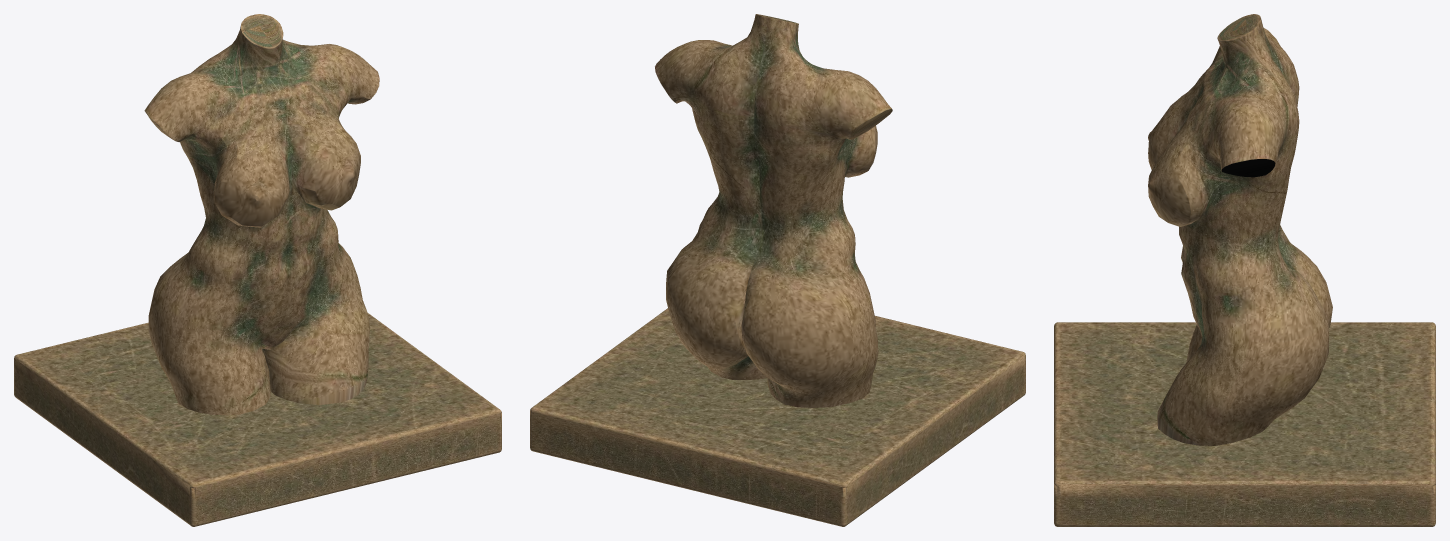
The model's file is woman_sculptire_ecc8b968.glb.
The picture shows the model from 3 angles, left to right: view 1: azimuth 30°, elevation 25°; view 2: azimuth 150°, elevation 25°; view 3: azimuth 270°, elevation 25°; orthographic projection. The views are drawn at different scales.
Parts seen in each view (by area): view 1: tsunade_2-base, Cube; view 2: tsunade_2-base, Cube; view 3: Cube, tsunade_2-base.
Boxes of the visible parts, left/top/right/bottom form: tsunade_2-base: left=144, top=14, right=379, bottom=415; Cube: left=14, top=313, right=501, bottom=526; tsunade_2-base: left=655, top=14, right=892, bottom=407; Cube: left=530, top=308, right=1025, bottom=526; Cube: left=1054, top=322, right=1435, bottom=526; tsunade_2-base: left=1148, top=14, right=1332, bottom=445.
Size of the model in its own units: 0.1241 by 0.1542 by 0.1241.
Materials: 2 (2 with a texture image).
